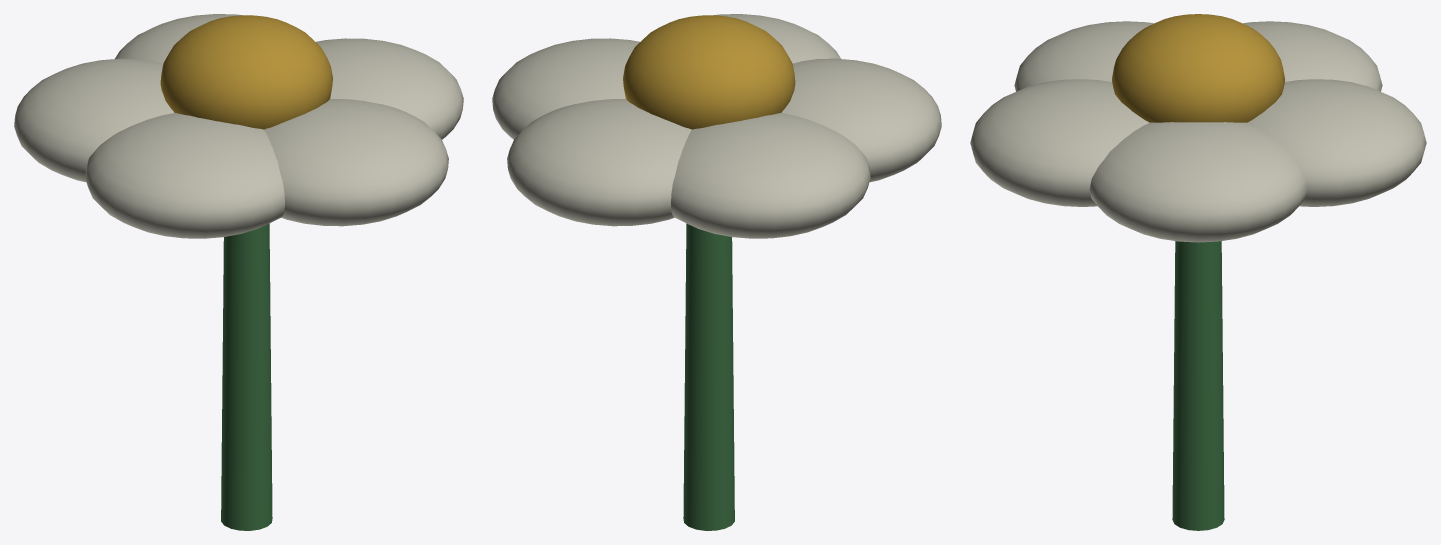
File: flower.glb
3 views of the same model, side by side, from view 1: azimuth 30°, elevation 25°; view 2: azimuth 150°, elevation 25°; view 3: azimuth 270°, elevation 25° (orthographic).
Visible parts, largest first — view 1: petal (×5), center, stem; view 2: petal (×5), center, stem; view 3: petal (×5), center, stem.
Part boxes in pixels (box(x1,y1,x2,y2)): petal (×5): box(14, 14, 463, 238); center: box(160, 15, 332, 129); stem: box(221, 223, 272, 530); petal (×5): box(492, 14, 941, 238); center: box(623, 15, 795, 129); stem: box(683, 223, 734, 530); petal (×5): box(970, 21, 1426, 242); center: box(1112, 14, 1284, 122); stem: box(1172, 241, 1224, 530).
Bounding box in the file's own units: 0.2566 × 0.315 × 0.2631.
